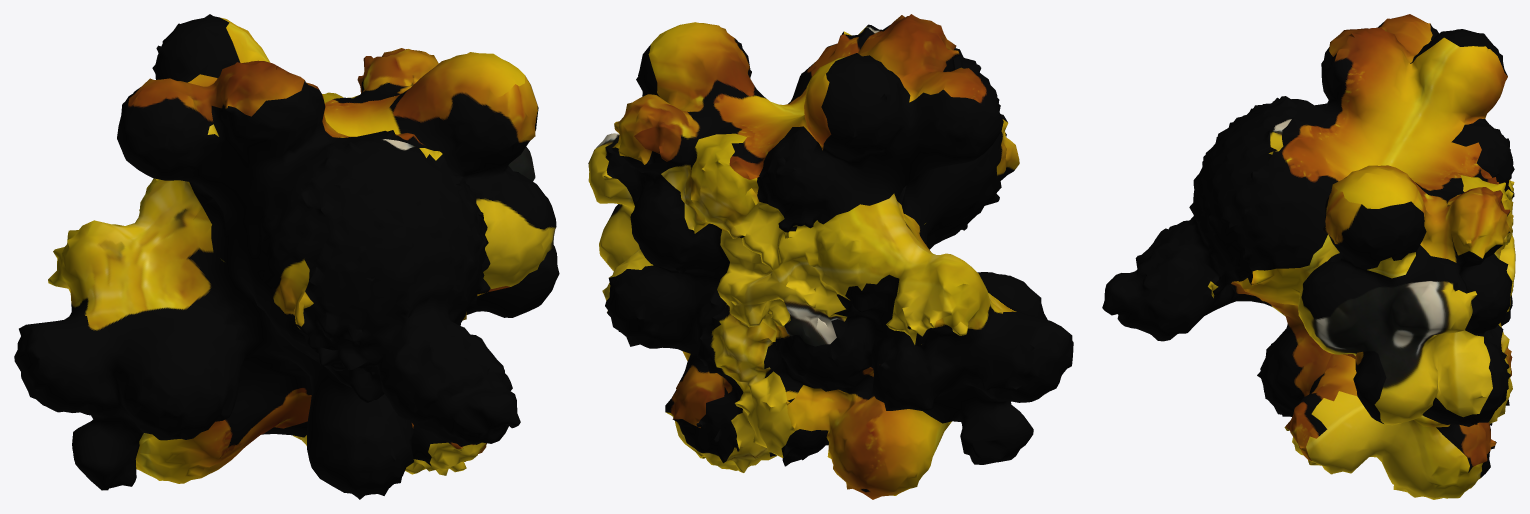
3 renders of one model, left to right at view 1: azimuth 30°, elevation 25°; view 2: azimuth 150°, elevation 25°; view 3: azimuth 270°, elevation 25°, orthographic. The views are drawn at different scales.
Bounding box in the file's own units: 0.0868 × 0.0774 × 0.0715.
